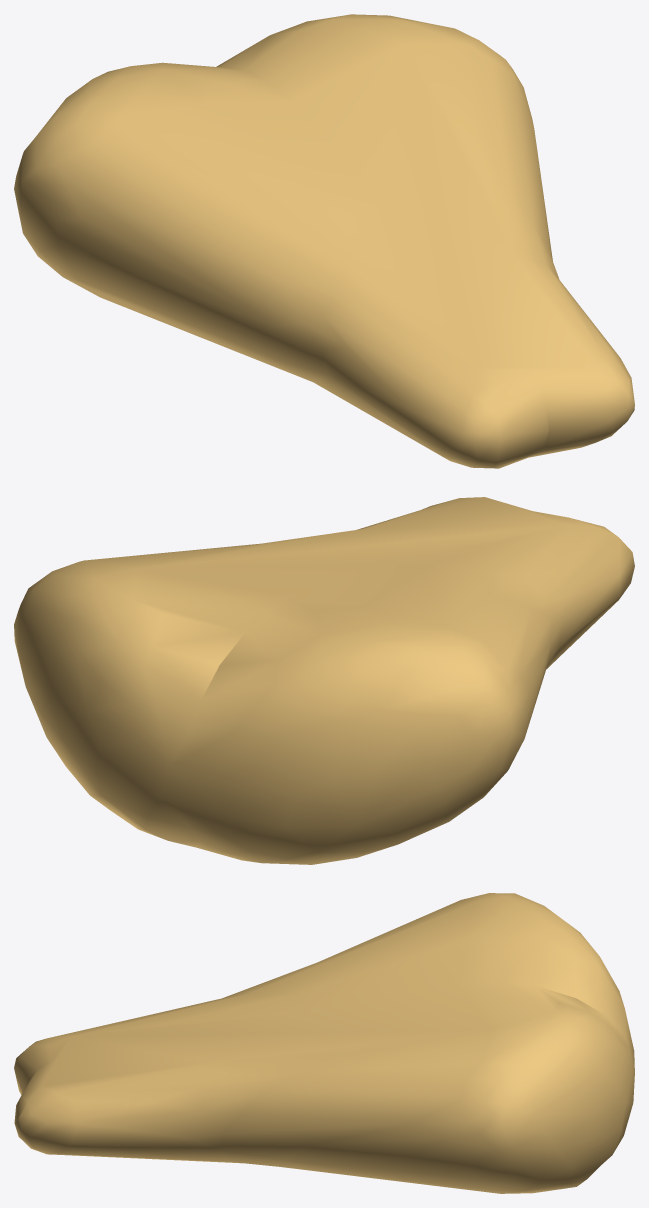
File: nervoso-folium-of-vermis.glb
3 renders of one model, top to bottom at view 1: azimuth 30°, elevation 25°; view 2: azimuth 150°, elevation 25°; view 3: azimuth 270°, elevation 25°, orthographic. The views are drawn at different scales.
Parts seen in each view (by area): view 1: Folium of vermis; view 2: Folium of vermis; view 3: Folium of vermis.
Boxes of the visible parts, x1,y1,x2,y2 form: Folium of vermis: (14,14,634,468); Folium of vermis: (14,497,634,864); Folium of vermis: (14,893,634,1193).
Size of the model in its own units: 0.0133 by 0.00608 by 0.0172.
